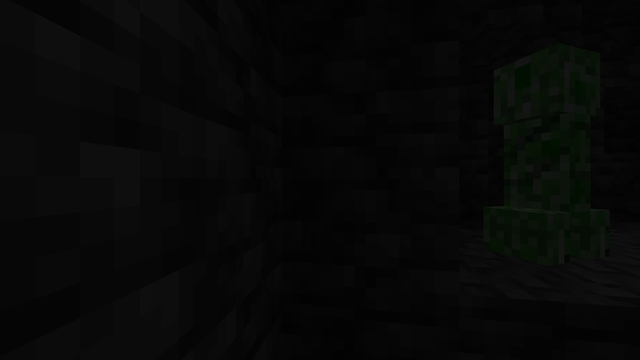creepers: (488, 30, 618, 265)
